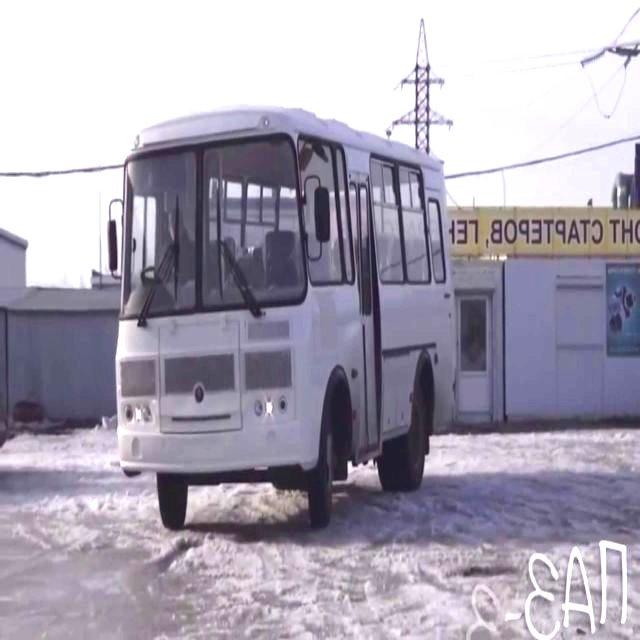bus: (48, 59, 496, 547)
